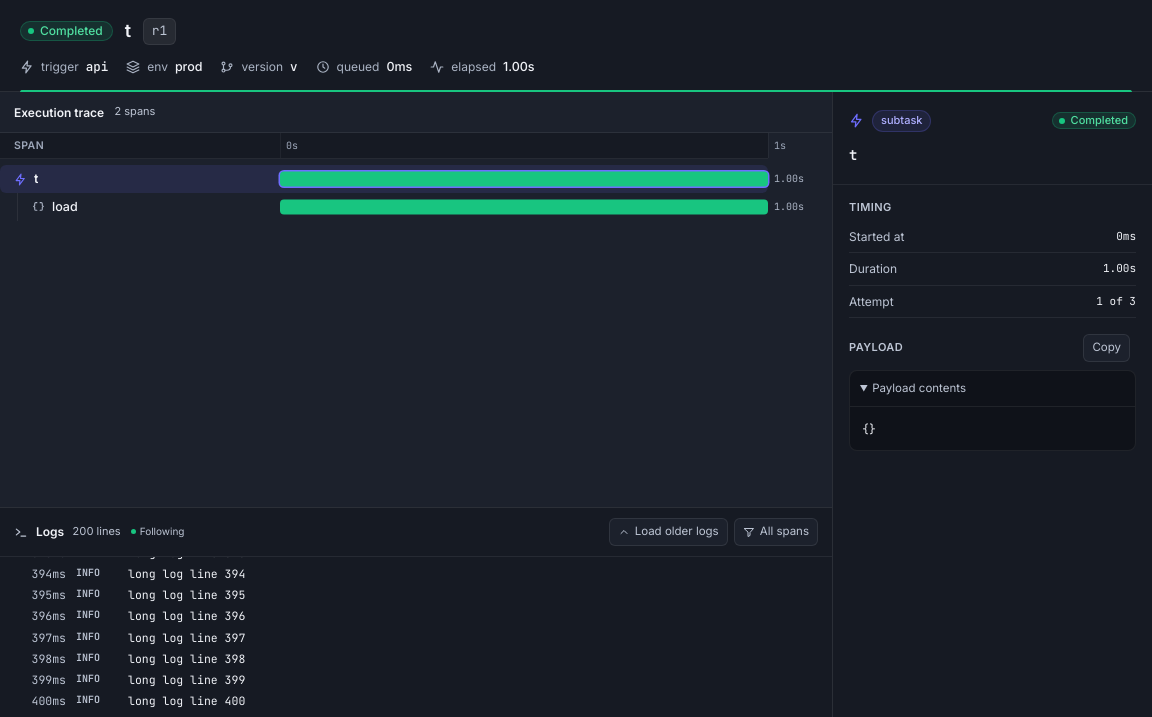
dashboard smoke — the states that used to need a live daemon › 4. long logs: Load older logs walks the logsNextCursor chain, deduped, until exhausted
(page scrolled)
Expected: the text "200 lines" is shown, left=72, top=524, right=121, bottom=540
Expected: the text "long log line 400" is shown, left=128, top=693, right=245, bottom=708
Click the button "Load older logs".
click(668, 532)  # box left=609, top=518, right=728, bottom=546
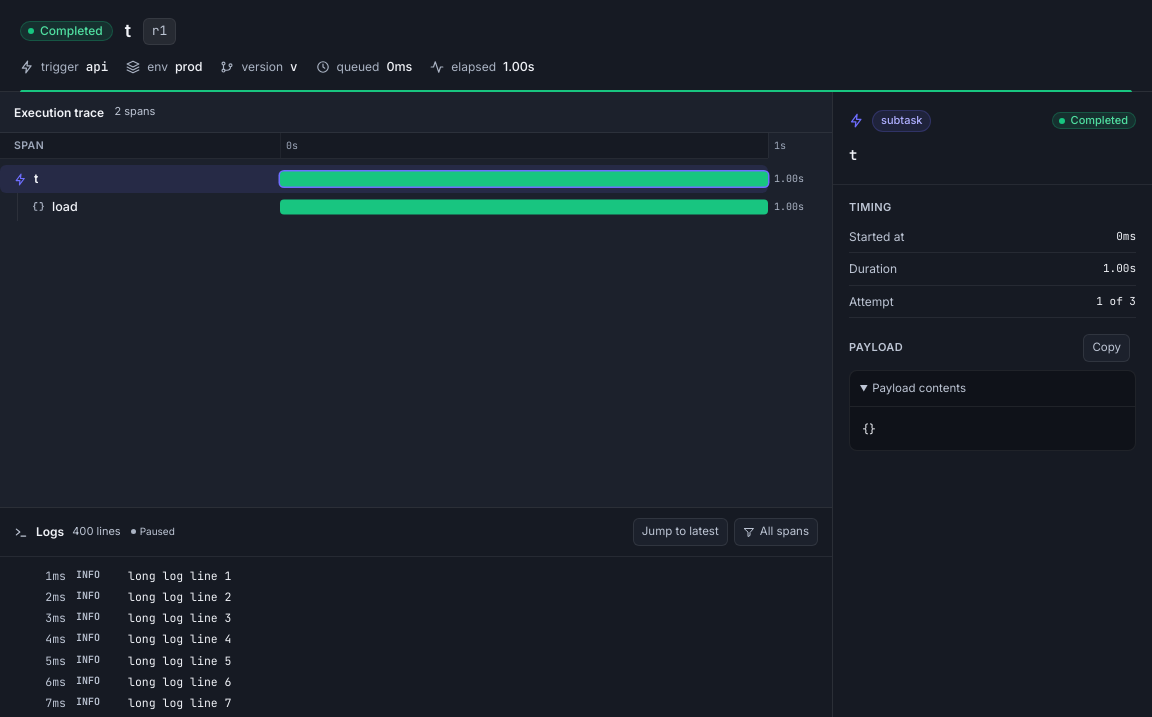
Expected: the text "400 lines" is shown, left=72, top=524, right=121, bottom=540
Expected: the text "long log line 1" is shown, left=128, top=568, right=232, bottom=583
Expected: the button "Load older logs" is gone
